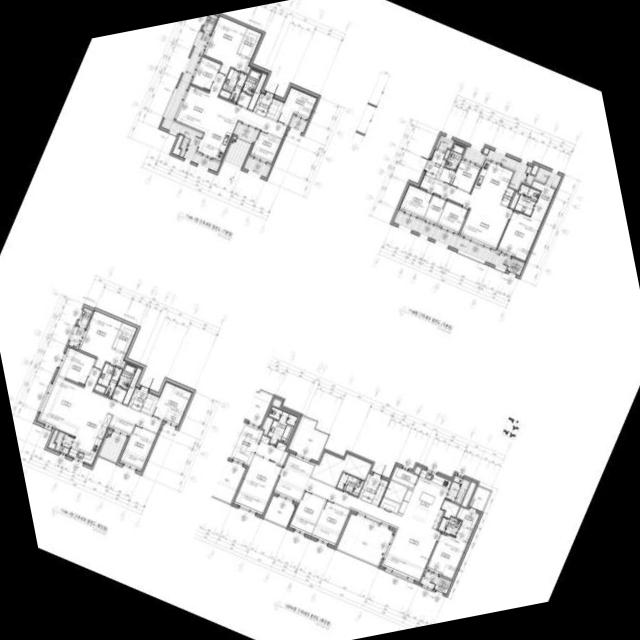background: (0, 0, 640, 640)
space_balconi: (161, 32, 220, 172), (393, 212, 511, 271), (462, 146, 533, 192), (337, 514, 393, 566), (288, 417, 329, 462), (264, 496, 296, 527), (99, 433, 126, 463), (224, 139, 251, 168), (446, 476, 470, 505), (243, 158, 271, 178), (469, 487, 490, 512), (535, 167, 561, 187), (54, 432, 74, 455), (235, 124, 257, 142), (68, 326, 85, 348), (436, 135, 454, 152), (420, 572, 438, 589), (289, 117, 307, 133)
space_bedroom: (234, 455, 282, 515), (203, 16, 250, 76), (78, 311, 125, 370), (427, 526, 472, 579), (497, 211, 542, 261), (152, 382, 192, 426), (312, 501, 350, 546), (120, 426, 157, 471), (290, 491, 326, 536), (277, 87, 317, 126), (57, 348, 95, 386), (399, 185, 433, 219), (250, 131, 282, 164), (437, 202, 468, 234), (191, 57, 220, 91), (451, 160, 480, 193)
space_dressroom: (228, 422, 263, 466), (531, 181, 556, 223), (237, 28, 262, 59), (112, 323, 137, 354), (456, 507, 479, 530)
space_front: (359, 474, 381, 504), (425, 150, 446, 180), (253, 94, 273, 118), (128, 388, 148, 412)
space_kitchen: (397, 469, 451, 530), (68, 406, 112, 465), (197, 112, 237, 161), (471, 161, 513, 206)
space_living_room: (274, 454, 440, 582), (37, 368, 163, 437), (173, 72, 288, 139), (420, 176, 512, 250)
space_other: (311, 453, 371, 488), (255, 436, 288, 465), (248, 74, 267, 111), (123, 368, 142, 405), (424, 196, 446, 225), (391, 467, 418, 489), (108, 415, 135, 436), (384, 481, 407, 504), (372, 480, 388, 506), (266, 98, 284, 121), (461, 482, 476, 508), (441, 500, 460, 519), (141, 394, 158, 415), (380, 498, 400, 514), (439, 168, 455, 184), (111, 387, 127, 403), (501, 188, 514, 207), (236, 93, 252, 108), (172, 135, 183, 156), (47, 430, 58, 450), (262, 417, 273, 435), (510, 192, 520, 209), (219, 90, 231, 99), (531, 165, 539, 176), (272, 399, 281, 408), (444, 150, 450, 160), (414, 467, 421, 475), (483, 148, 489, 155), (121, 361, 126, 369), (246, 66, 251, 74), (108, 431, 111, 435), (233, 137, 236, 140)
space_outdoor_room: (507, 258, 525, 276), (434, 577, 452, 595), (77, 308, 93, 328), (202, 15, 218, 34)
space_toilet: (268, 407, 297, 446), (94, 363, 122, 397), (222, 69, 247, 102), (515, 185, 540, 216), (337, 473, 364, 497), (445, 144, 465, 171), (117, 364, 136, 390), (242, 69, 261, 95), (438, 517, 461, 537)
